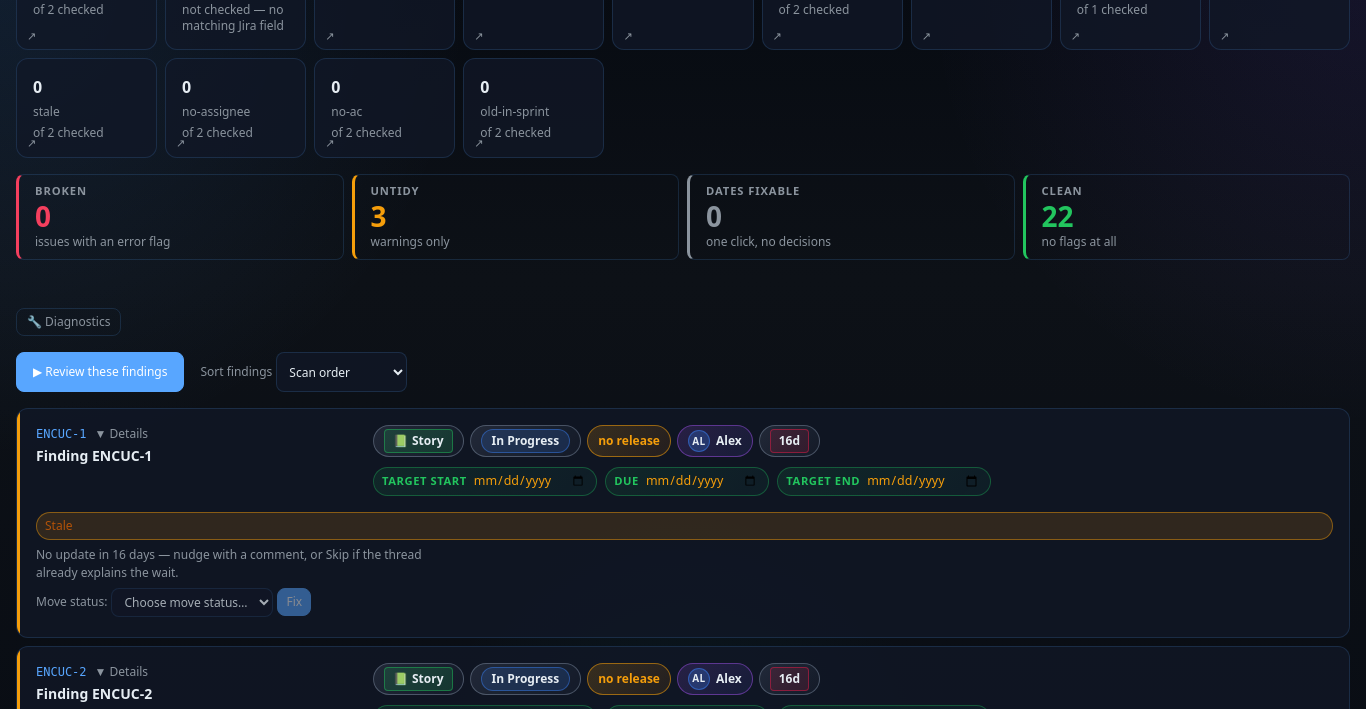
Test: HygieneView › ending the session reports the honest four-bucket summary — untouched is never "handled"
(page scrolled)
Click the button "▶ Review these findings": {"x": 100, "y": 372} [16,352,184,392]
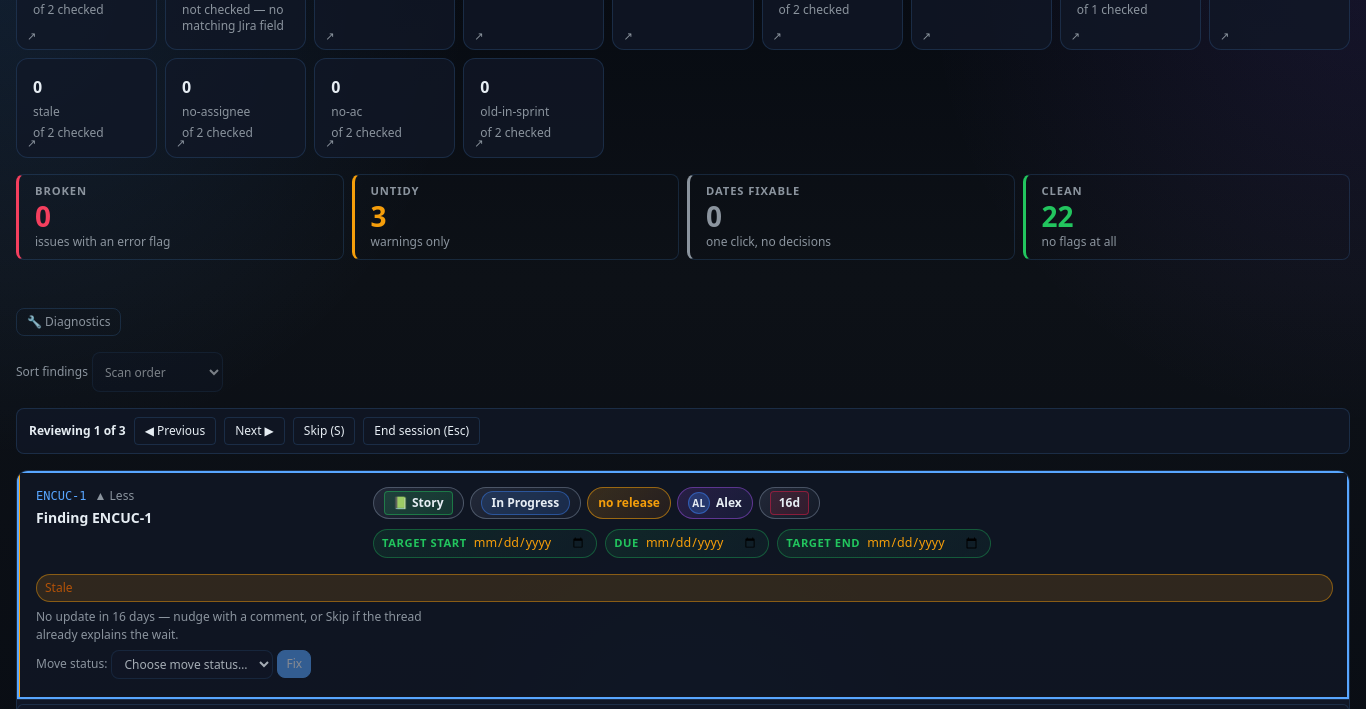
Click the button "Skip (S)": {"x": 324, "y": 431} [293,417,355,445]
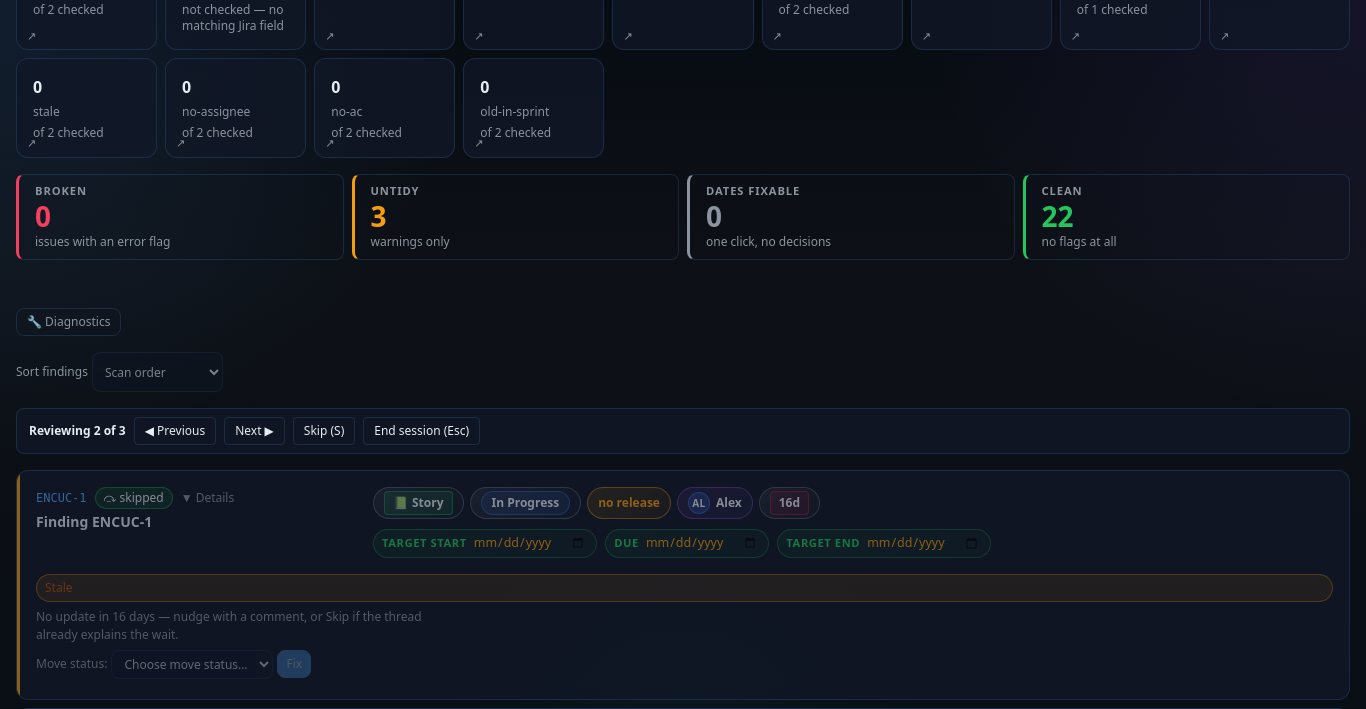
Click the button "End session (Esc)": {"x": 422, "y": 431} [363,417,480,445]
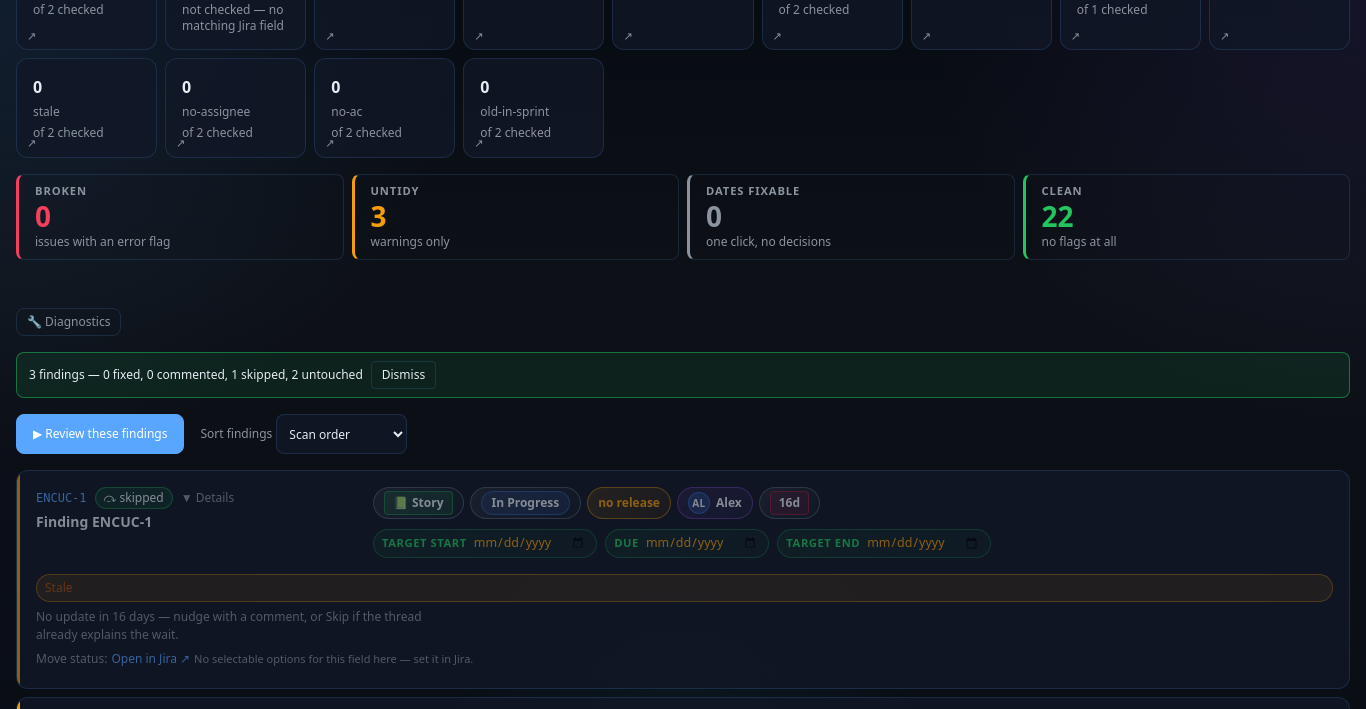
Now the text "3 findings — 0 fixed, 0 commented, 1 skipped, 2 untouched" is shown, box [29,366,363,384]
